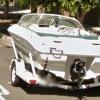Boat: (4, 8, 99, 100)
